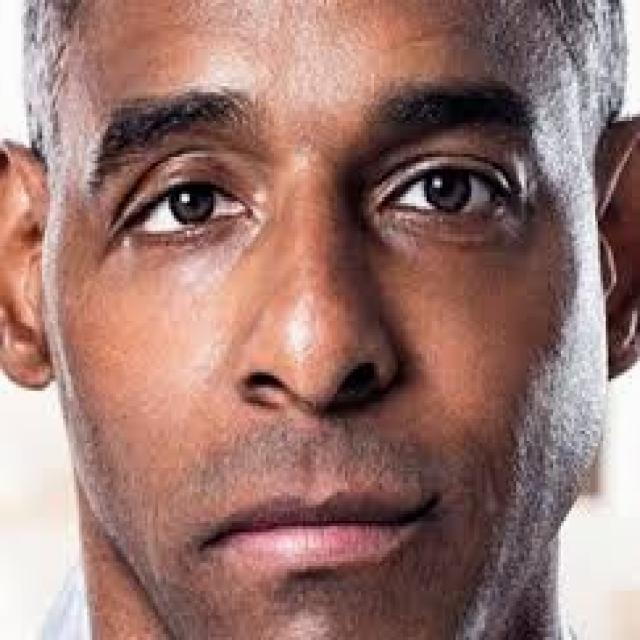stroke_face: (34, 1, 617, 640)
